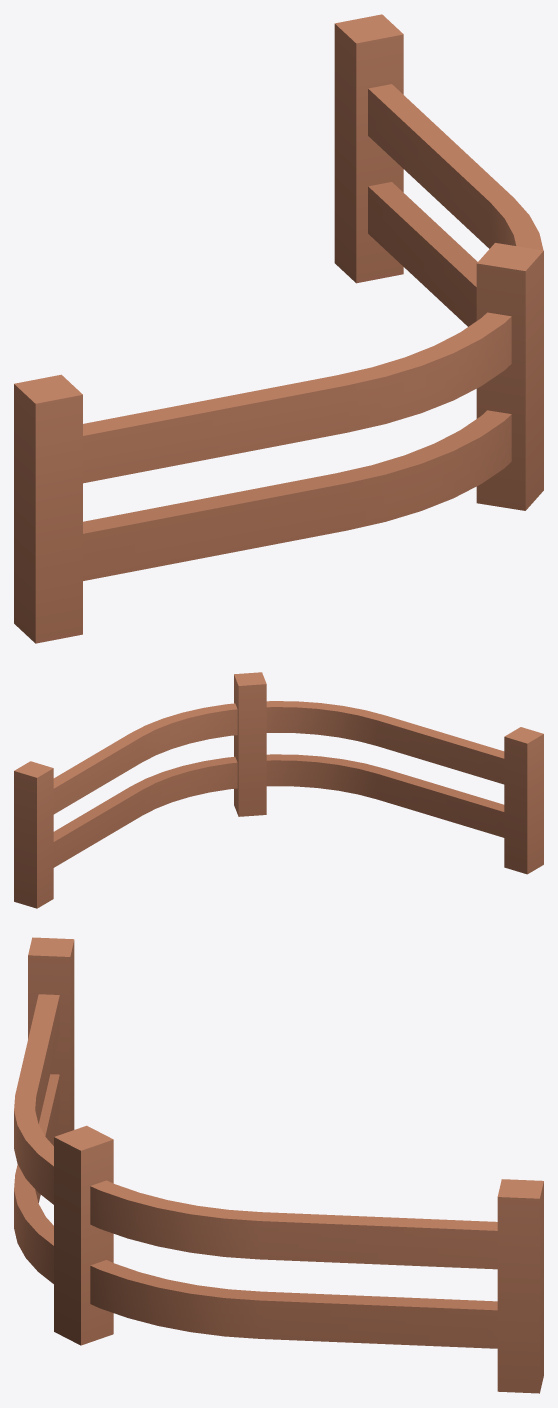
The model's file is fence-curved_lev4.glb.
3 views of the same model, one above another, from view 1: azimuth 30°, elevation 25°; view 2: azimuth 150°, elevation 25°; view 3: azimuth 270°, elevation 25° (orthographic). The views are drawn at different scales.
Visible parts, largest first — view 1: fence-curved_lev4; view 2: fence-curved_lev4; view 3: fence-curved_lev4.
Boxes of the visible parts, left/top/right/bottom form: fence-curved_lev4: left=14, top=14, right=543, bottom=643; fence-curved_lev4: left=14, top=672, right=543, bottom=908; fence-curved_lev4: left=14, top=937, right=543, bottom=1393.
Size of the model in its own units: 17.42 by 6.06 by 14.94.
Materials: 1 (1 with a texture image).
